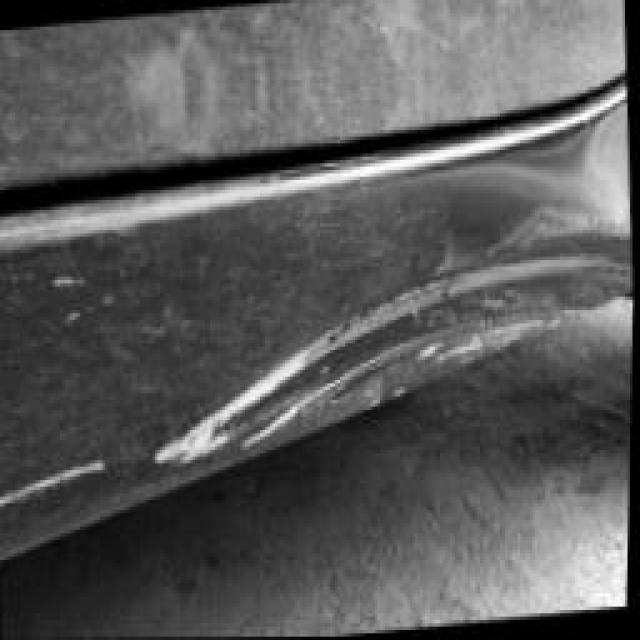Door: (0, 123, 638, 518)
